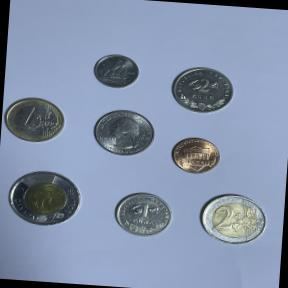1 Euro: (0, 91, 71, 148)
2 Euro: (193, 186, 272, 251)
Canda-10cent-: (88, 50, 144, 94)
Canda-2Dollar-: (3, 164, 87, 232)
Croatia-2Kune-: (166, 61, 238, 118)
US-1cent-: (166, 132, 223, 178)
US-25cent-: (87, 104, 160, 161)
